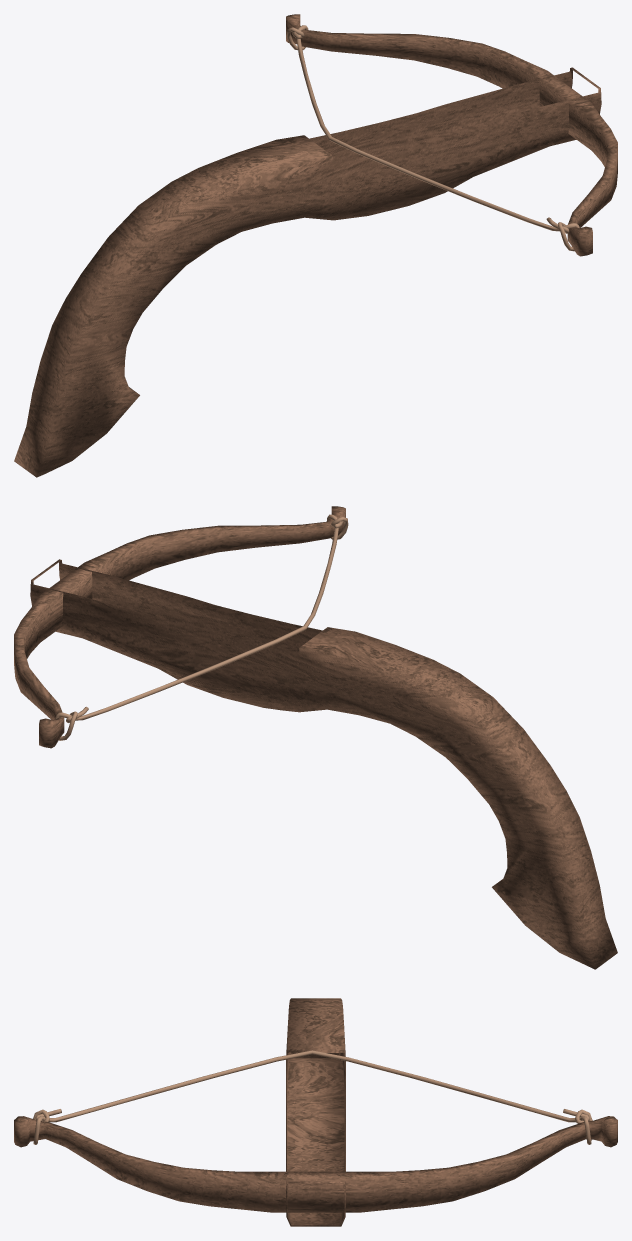
File: Xbow_LP.004.fbx
The picture shows the model from 3 angles, top to bottom: view 1: azimuth 30°, elevation 25°; view 2: azimuth 150°, elevation 25°; view 3: azimuth 270°, elevation 25°; orthographic projection.
Visible parts, largest first — view 1: Xbow_LP.004_Baked; view 2: Xbow_LP.004_Baked; view 3: Xbow_LP.004_Baked.
Part boxes in pixels (x1,y1,x2,y2): Xbow_LP.004_Baked: (14, 14, 617, 477); Xbow_LP.004_Baked: (14, 506, 617, 969); Xbow_LP.004_Baked: (14, 998, 617, 1226).
Size of the model in its own units: 881 by 390 by 812.
1 material, 1 textured.
